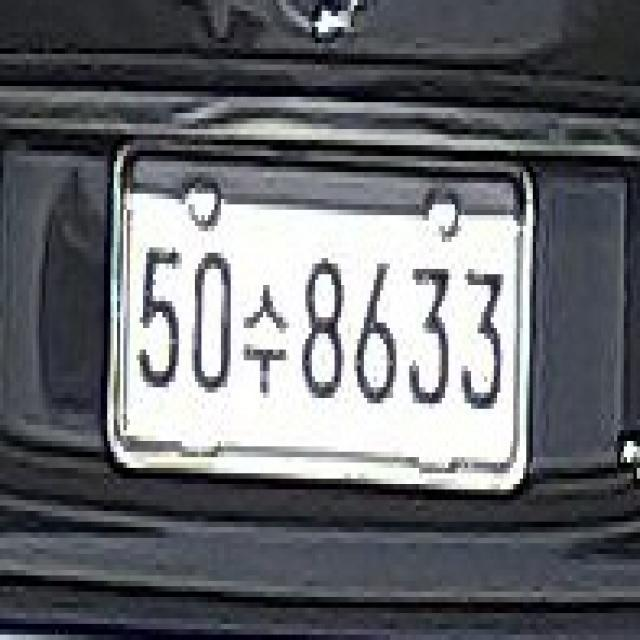0: (189, 244, 235, 396)
3: (460, 260, 508, 418), (408, 256, 453, 420)
5: (136, 236, 184, 397)
6: (355, 252, 400, 422)
8: (294, 240, 349, 420)
license_plate: (109, 130, 543, 506)
su: (243, 271, 290, 420)
